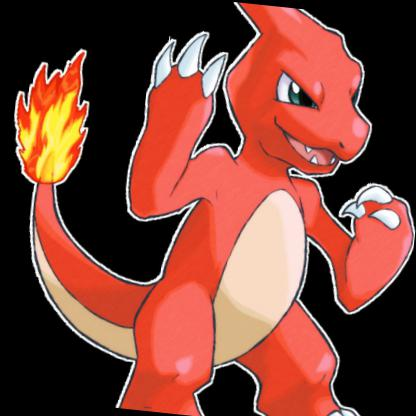Charmeleon: (1, 2, 416, 384)
